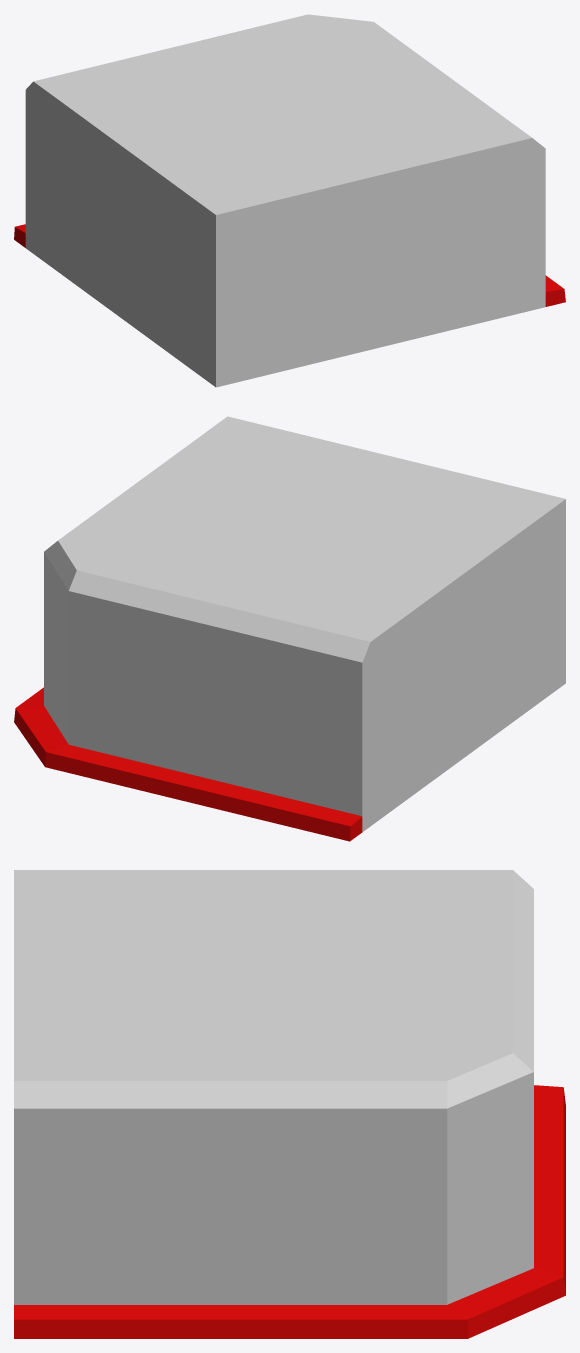
Rendered from SM_PlatformCorner.fbx.
The picture shows the model from 3 angles, top to bottom: view 1: azimuth 30°, elevation 25°; view 2: azimuth 150°, elevation 25°; view 3: azimuth 270°, elevation 25°; orthographic projection. The views are drawn at different scales.
Visible parts, largest first — view 1: SM_Platform_Corner, SM_Platform_CornerTrim; view 2: SM_Platform_Corner, SM_Platform_CornerTrim; view 3: SM_Platform_Corner, SM_Platform_CornerTrim.
Part boxes in pixels (box(x1,y1,x2,y2)): SM_Platform_Corner: box(25, 14, 545, 387); SM_Platform_CornerTrim: box(14, 224, 565, 306); SM_Platform_Corner: box(44, 416, 565, 831); SM_Platform_CornerTrim: box(14, 687, 362, 841); SM_Platform_Corner: box(14, 870, 533, 1304); SM_Platform_CornerTrim: box(14, 1085, 565, 1338).
Size of the model in its own units: 6.37 by 3 by 6.37.
